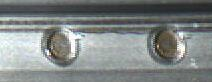cut: (39, 26, 82, 68)
joints: (39, 26, 81, 68), (147, 25, 185, 62)
